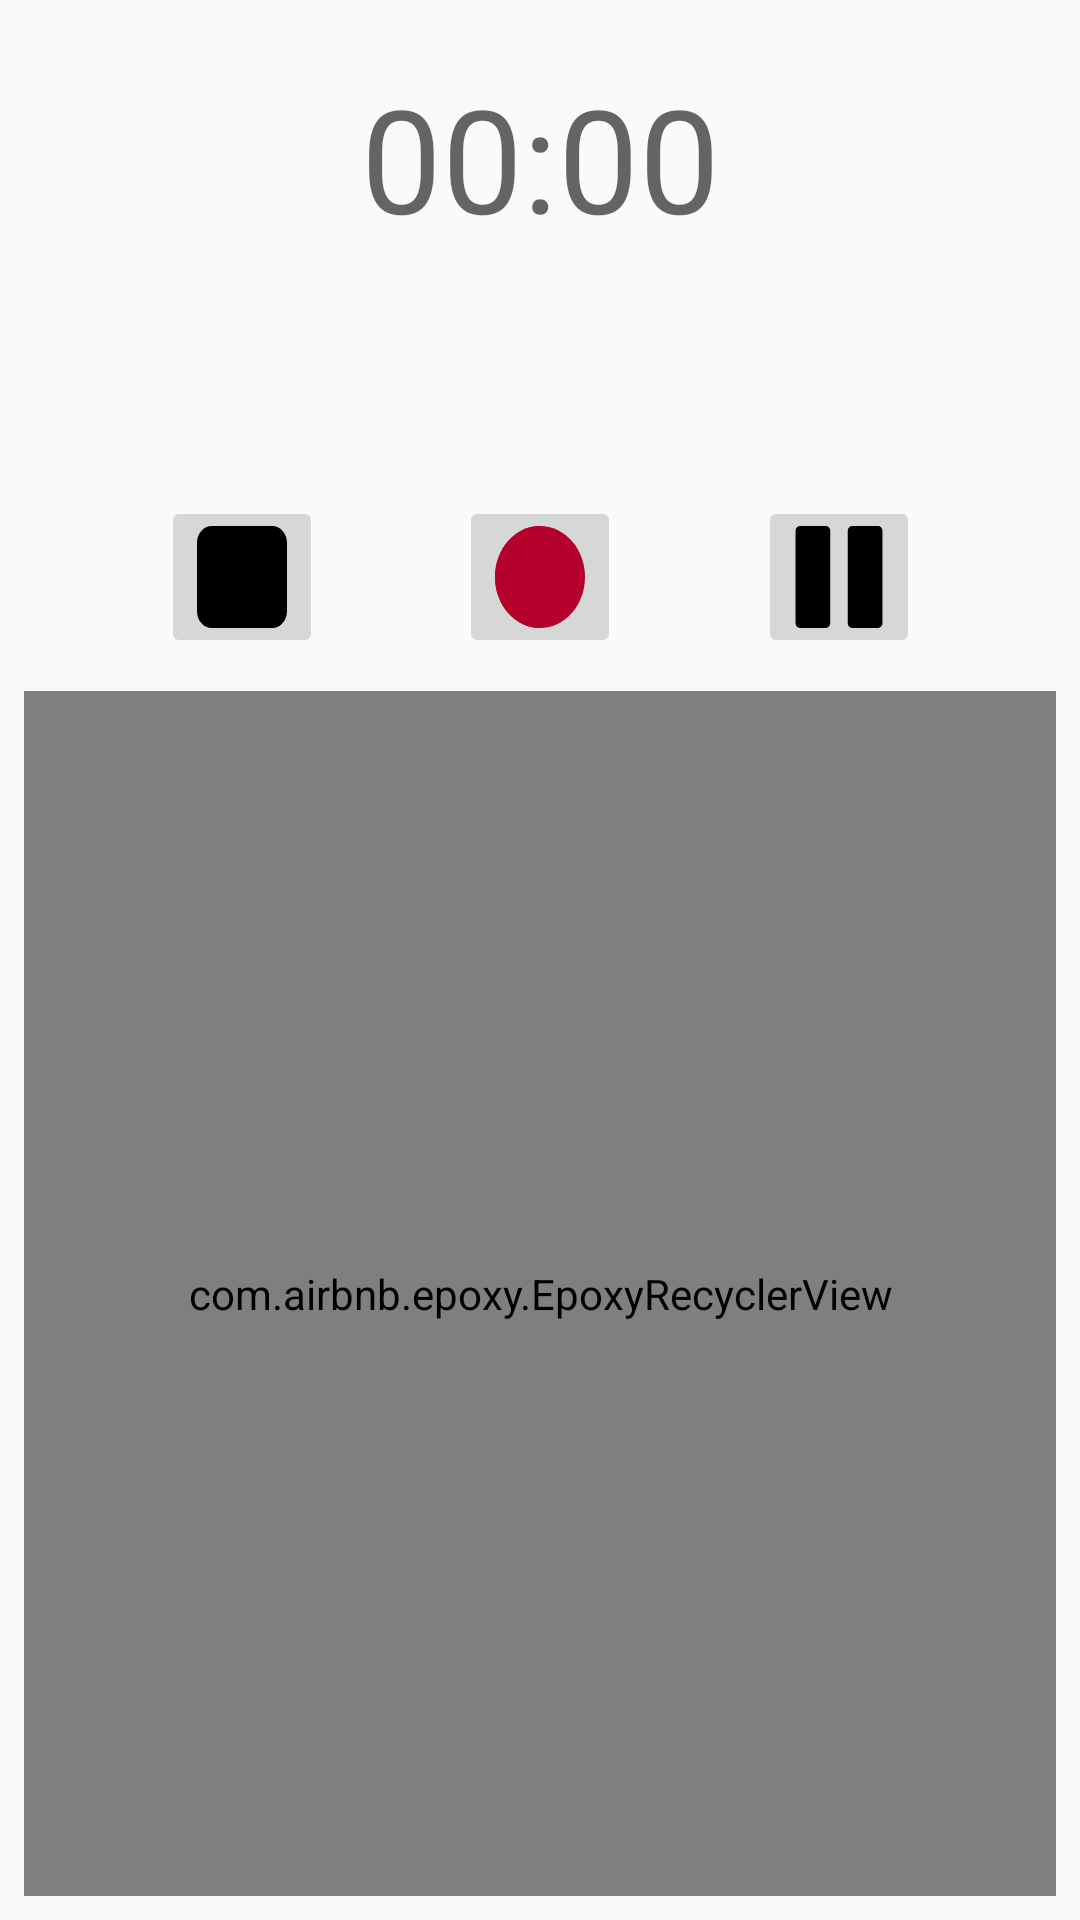

Screen size 1080×1920. Icon name, then its box in pixels as [left=x1, top=y1, right=x2, bottom=y2]:
pause: [left=770, top=514, right=908, bottom=640]
rec: [left=471, top=514, right=609, bottom=640]
stop: [left=173, top=514, right=311, bottom=640]
